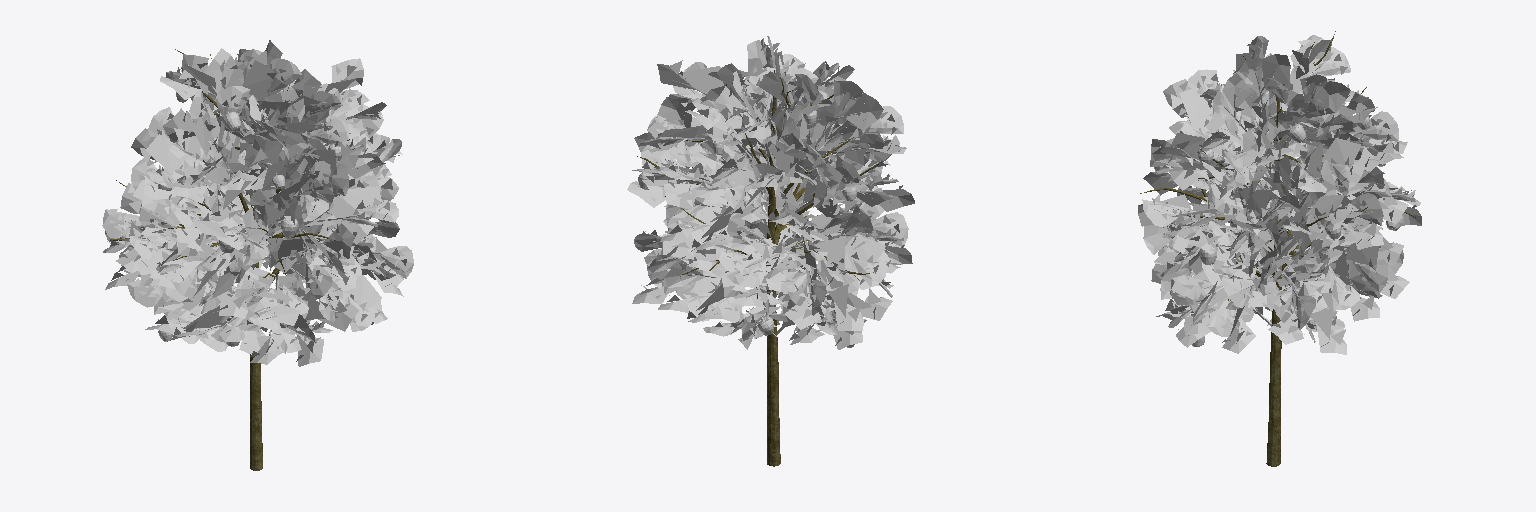
3 renders of one model, left to right at view 1: azimuth 30°, elevation 25°; view 2: azimuth 150°, elevation 25°; view 3: azimuth 270°, elevation 25°, orthographic.
Parts seen in each view (by area): view 1: Object_8, Object_6, Object_10; view 2: Object_8, Object_6, Object_10; view 3: Object_8, Object_6, Object_10.
Part boxes in pixels (x1,y1,x2,y2): Object_8: (102,40,413,366); Object_6: (110,49,370,470); Object_10: (120,87,388,346); Object_8: (627,36,914,349); Object_6: (637,70,881,466); Object_10: (638,91,862,347); Object_8: (1138,35,1421,354); Object_6: (1140,31,1415,466); Object_10: (1154,113,1403,346).
Bounding box in the file's own units: 0.3426 × 0.512 × 0.3154.
Materials: 3 (1 with a texture image).